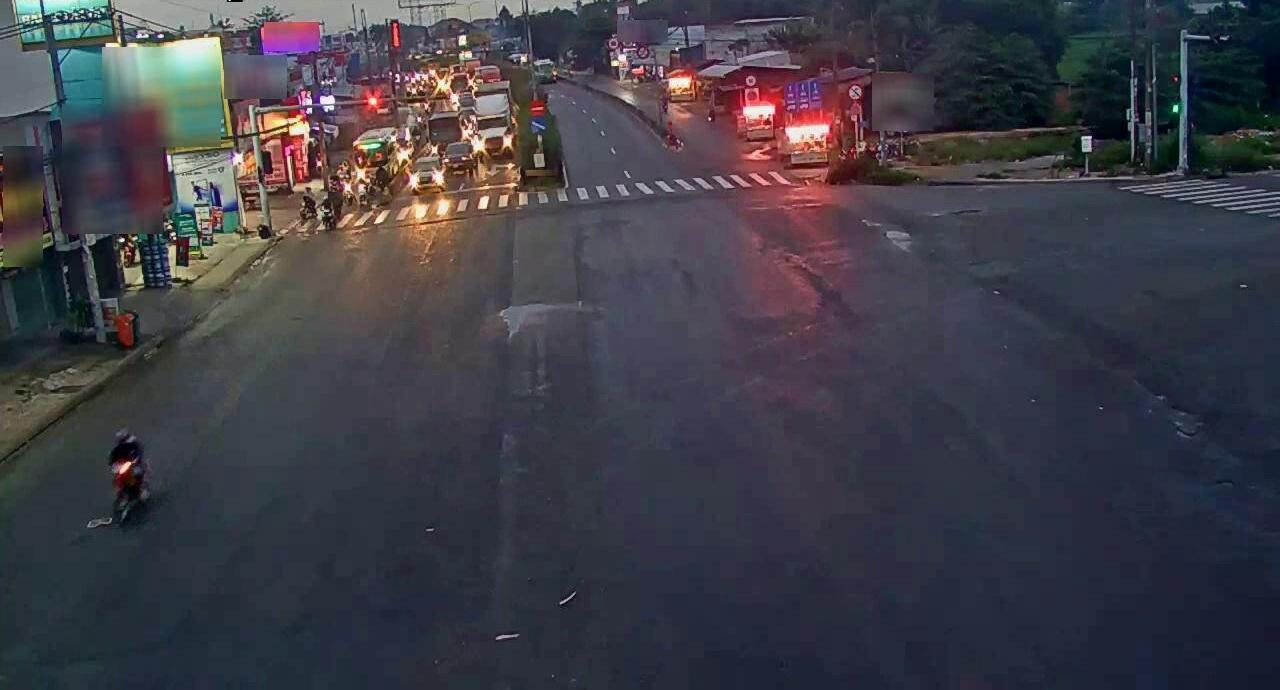xe may: (103, 428, 154, 526)
